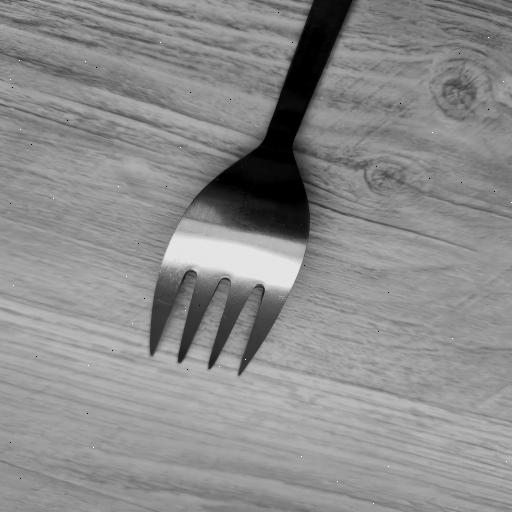fork: (131, 0, 358, 379)
